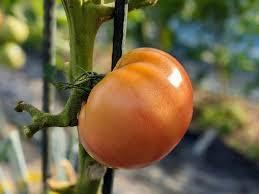Mengkal: (77, 39, 194, 173)
